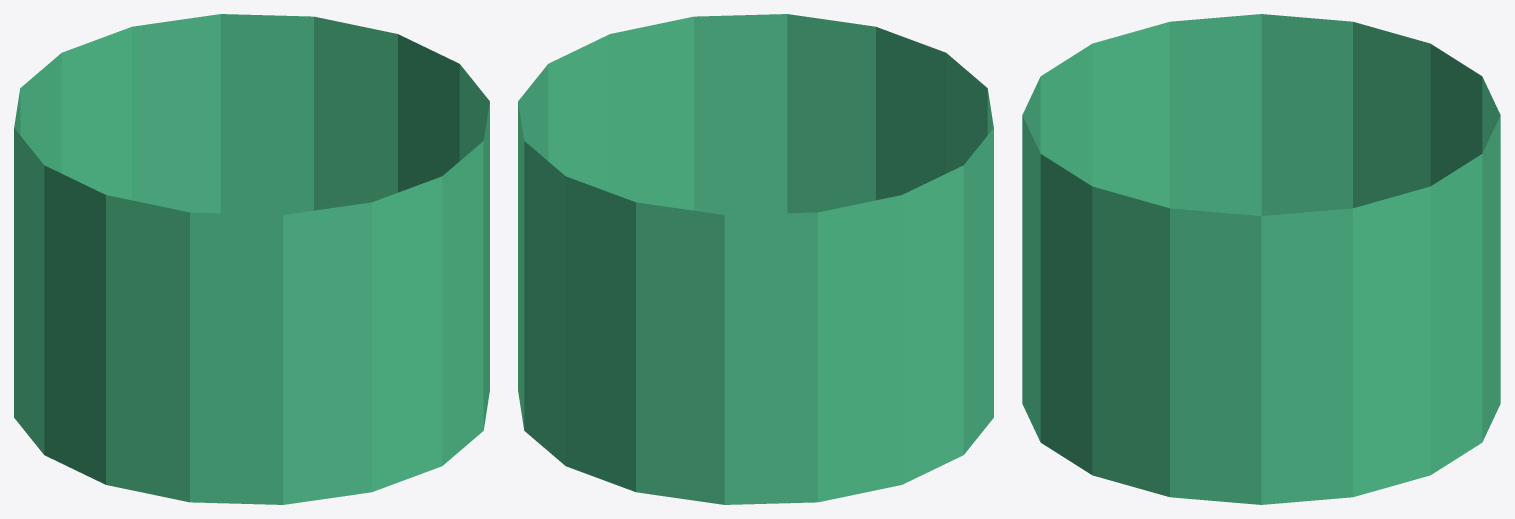
The model's file is pipe_body.glb.
The picture shows the model from 3 angles, left to right: view 1: azimuth 30°, elevation 25°; view 2: azimuth 150°, elevation 25°; view 3: azimuth 270°, elevation 25°; orthographic projection.
Visible parts, largest first — view 1: pipe_body; view 2: pipe_body; view 3: pipe_body.
Part boxes in pixels (x1,y1,x2,y2): pipe_body: (14, 14, 489, 504); pipe_body: (518, 14, 993, 504); pipe_body: (1022, 14, 1500, 504).
Size of the model in its own units: 3 by 2 by 3.
